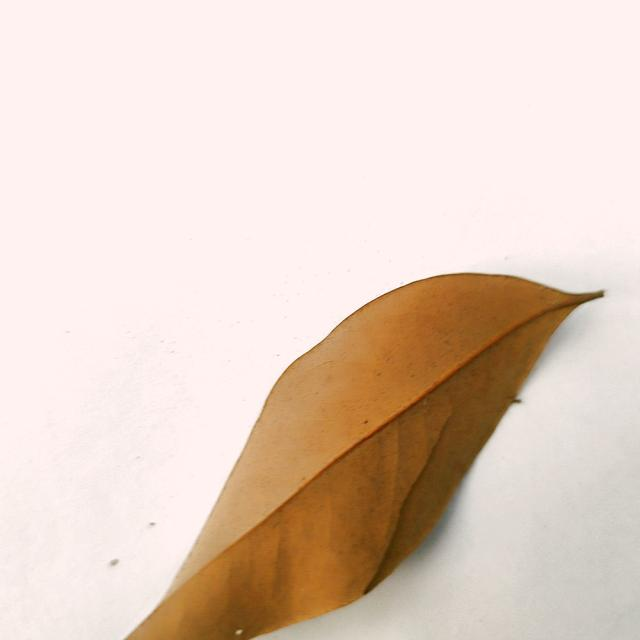Dry_Leaf-Lychee: (124, 274, 602, 639)
